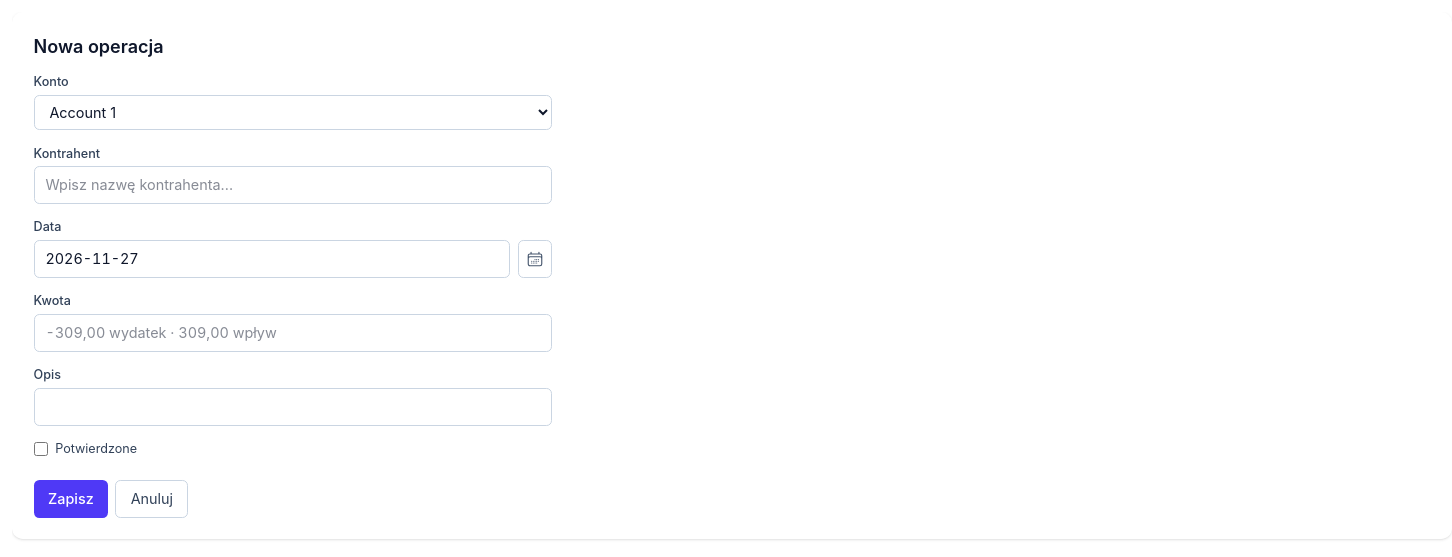
Test: NewOperationPage › adds an operation, then shows it highlighted in the history of its account
Select "Account 2" in the dropdown labelled "Konto": coordinates (293, 112) left=34, top=95, right=552, bottom=130
In the dropdown labelled "Kontrahent": coordinates (293, 185) left=34, top=166, right=552, bottom=204, type "sho"
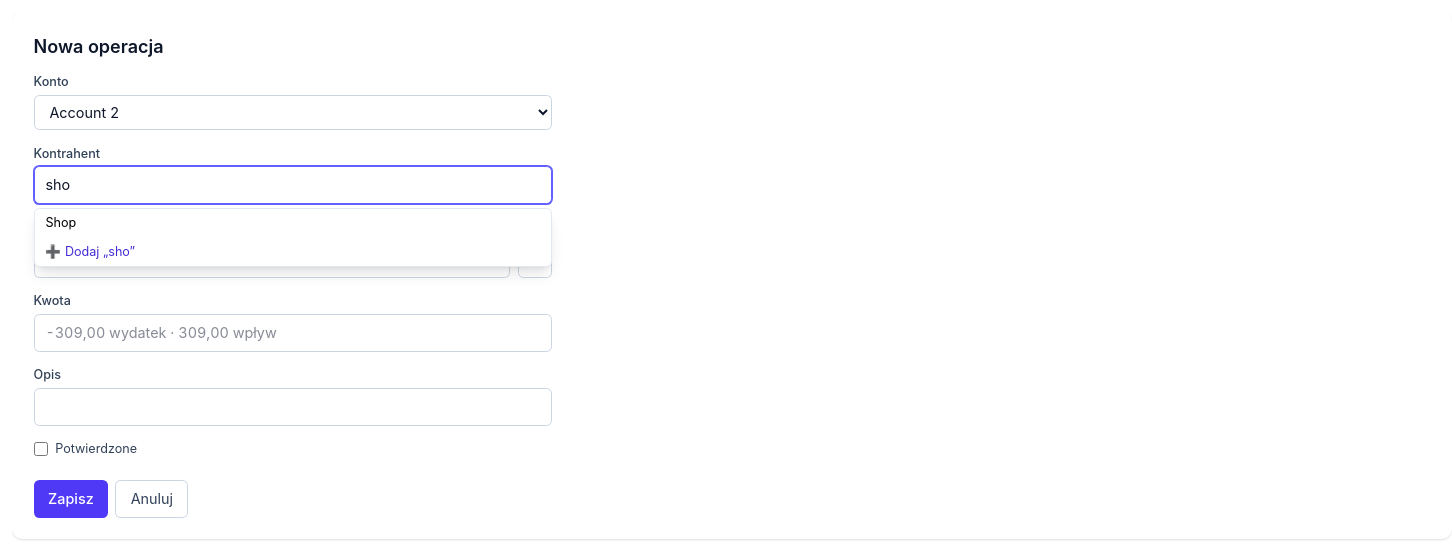
Click the option "Shop": coordinates (61, 222) left=45, top=215, right=76, bottom=230
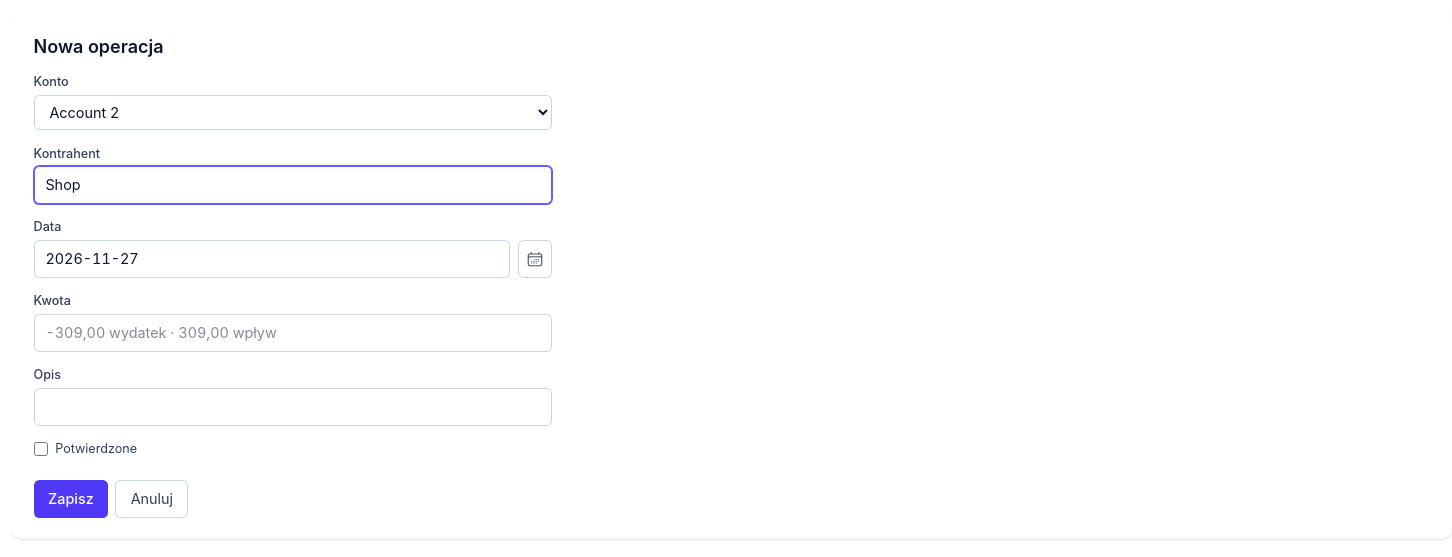
Replace the text in the field labelled "Data" with "2026-11-03": coordinates (272, 259) left=34, top=240, right=510, bottom=278
In the field labelled "Kwota": coordinates (293, 333) left=34, top=314, right=552, bottom=352, type "-12,50"
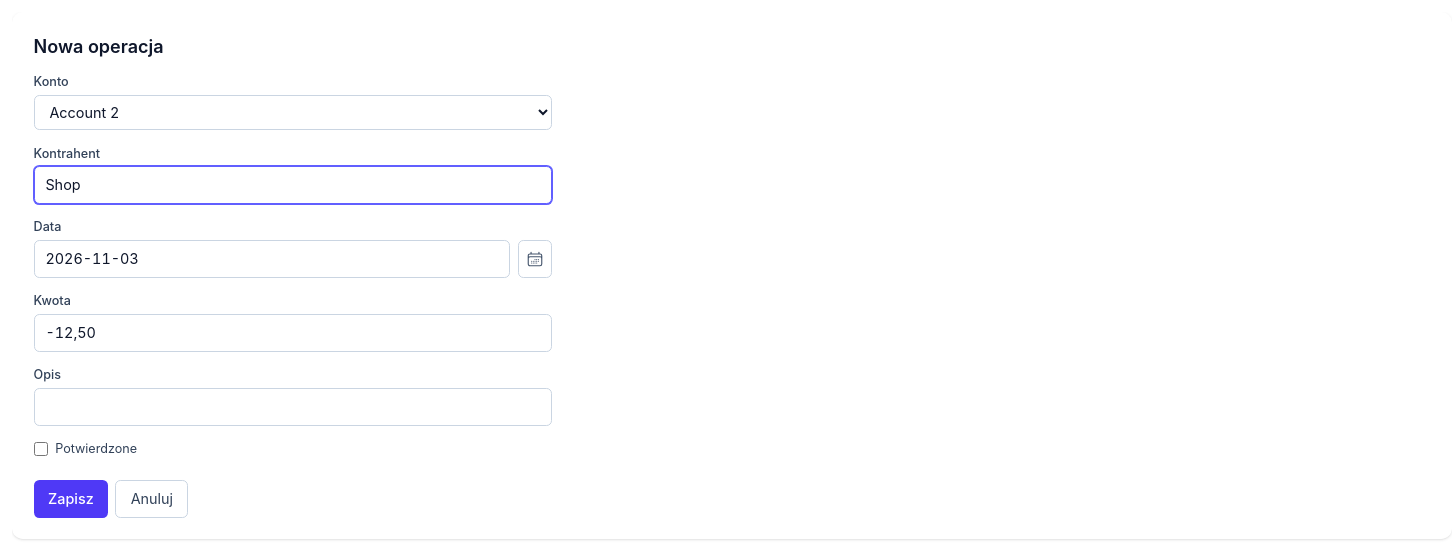
In the field labelled "Opis": coordinates (293, 407) left=34, top=388, right=552, bottom=426, type "Bread"
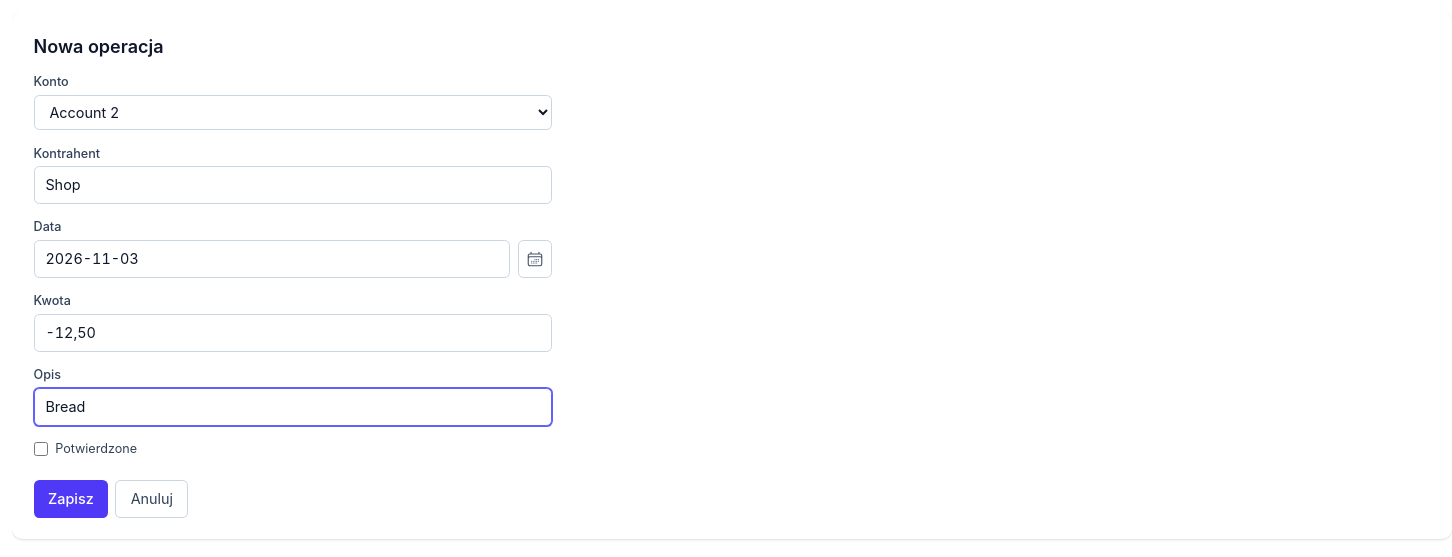
Click the checkbox labelled "Potwierdzone": coordinates (41, 449) left=34, top=442, right=48, bottom=456
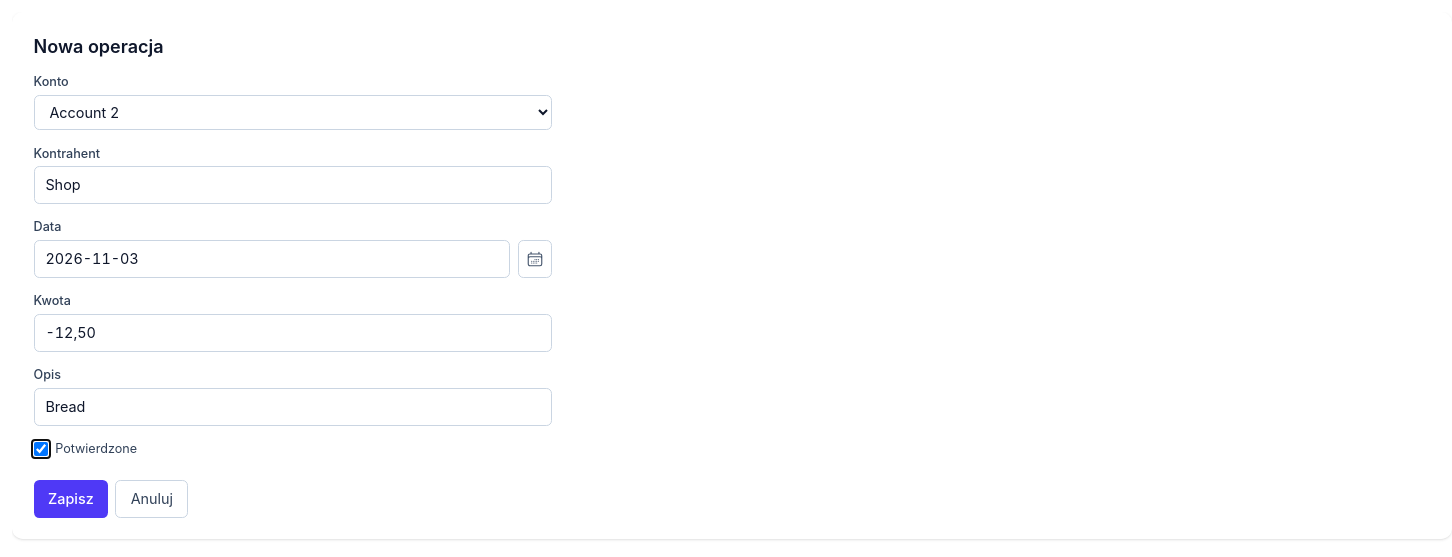
Click the button "Zapisz": coordinates (71, 499) left=34, top=480, right=108, bottom=518
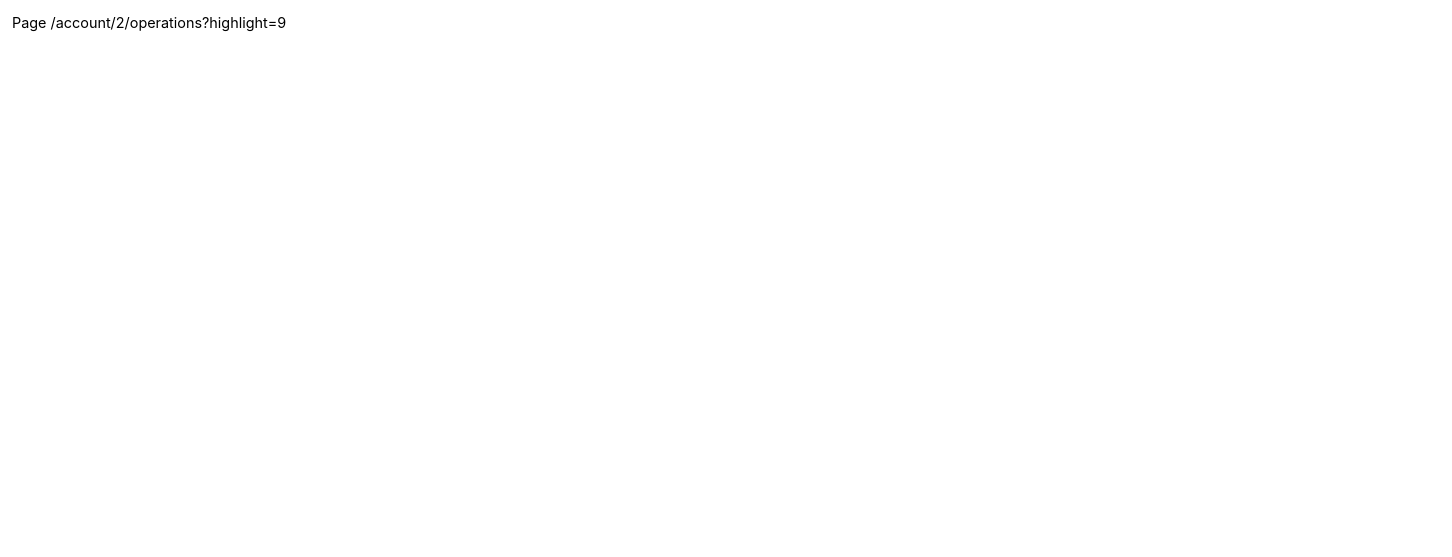
Expected: the text "Page /account/2/operations?highlight=9" is shown, left=12, top=14, right=286, bottom=31
